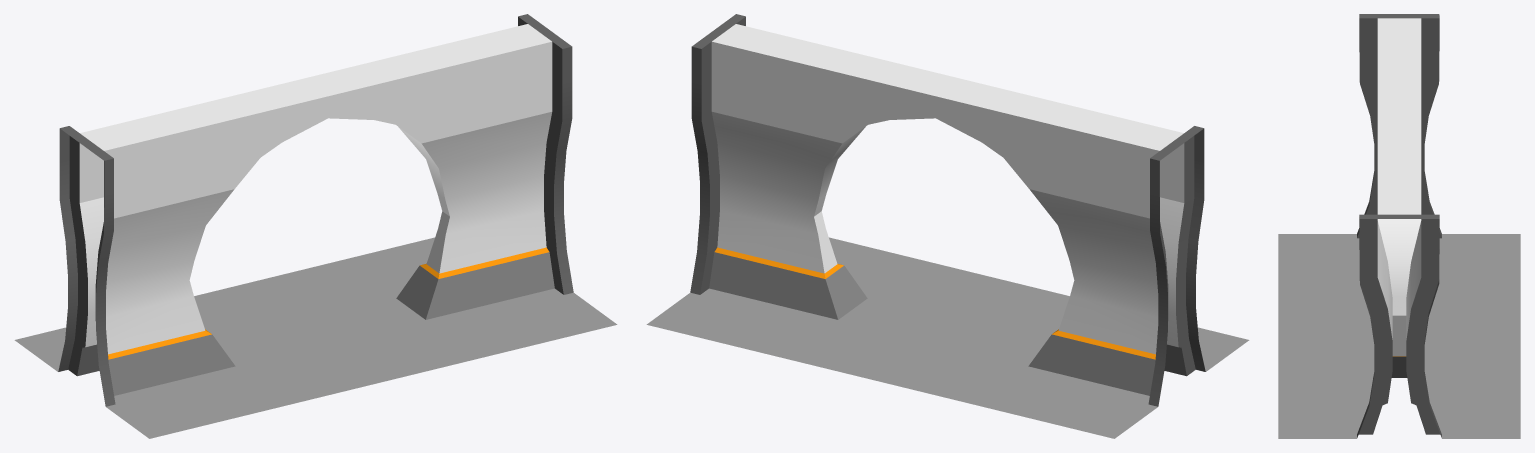
The model's file is SM_InteriorDoor_02.fbx.
3 views of the same model, side by side, from view 1: azimuth 30°, elevation 25°; view 2: azimuth 150°, elevation 25°; view 3: azimuth 270°, elevation 25° (orthographic). The views are drawn at different scales.
Parts seen in each view (by area): view 1: SM_InteriorDoor_02; view 2: SM_InteriorDoor_02; view 3: SM_InteriorDoor_02.
Part boxes in pixels (x1,y1,x2,y2): SM_InteriorDoor_02: (14, 14, 617, 438); SM_InteriorDoor_02: (646, 14, 1249, 438); SM_InteriorDoor_02: (1278, 14, 1520, 438).
Bounding box in the file's own units: 400 × 200 × 200.
